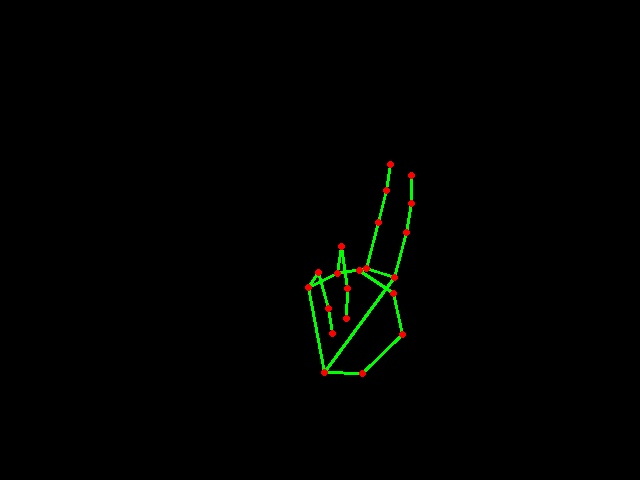forward: (275, 139, 436, 389)
